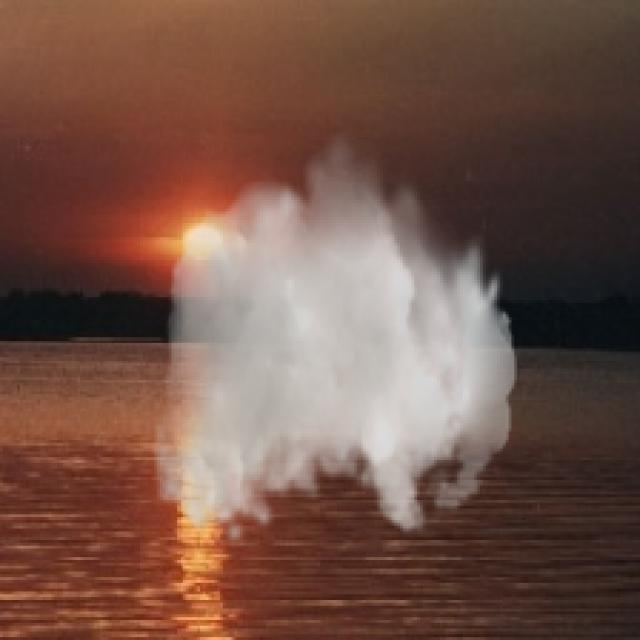smoke: (152, 125, 517, 546)
